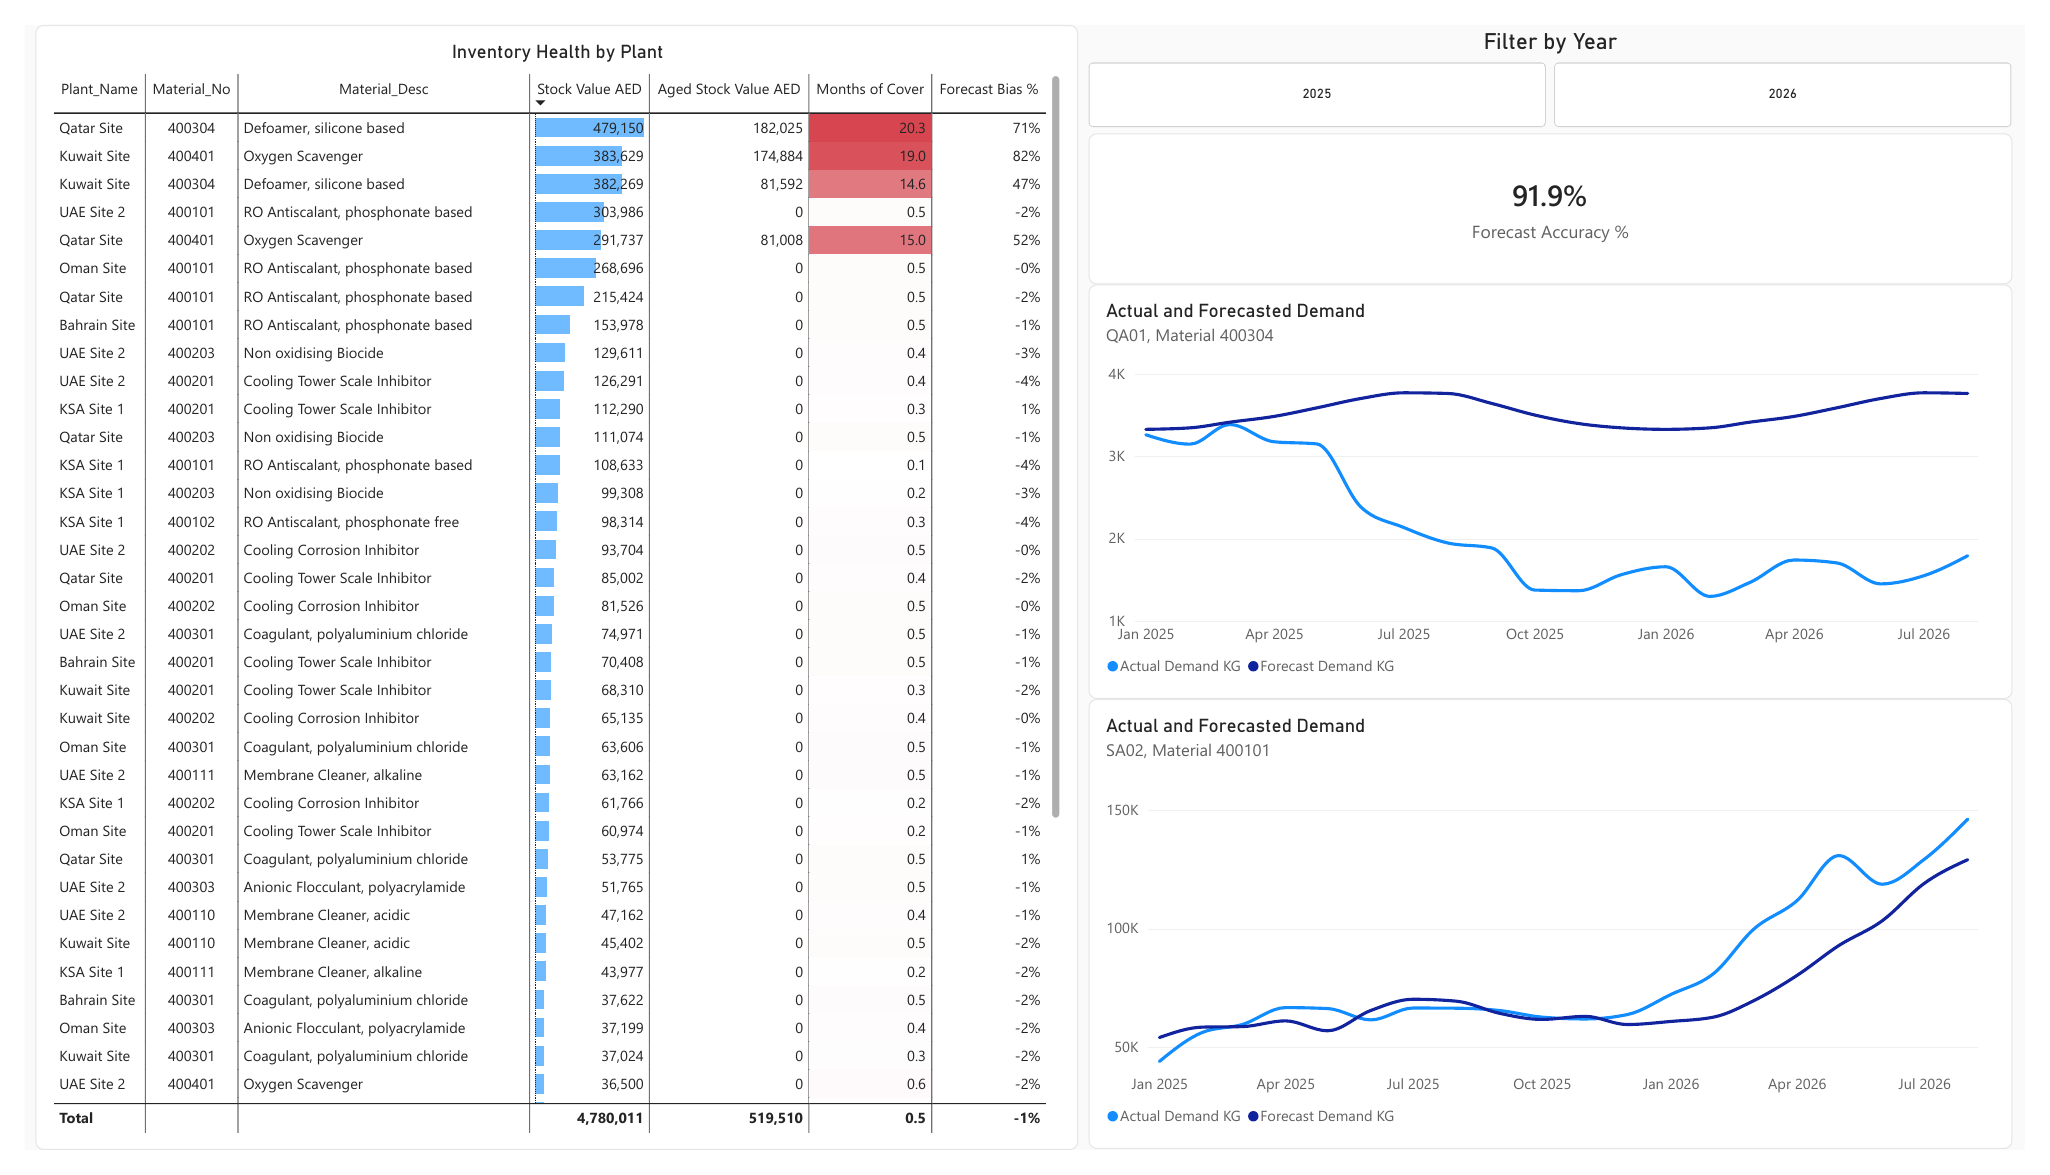

Layout of this report page (visuals, bound fields, positions):
{"tool":"powerbi","page":{"name":"Inventory & Forecast","canvas":[1920,1080],"ordinal":2},"visuals":[{"type":"tableEx","title":"Inventory Health by Plant","fields":{"Values":["Dim_Plant.Plant_Name","Dim_Material.Material_No","Dim_Material.Material_Desc","_Measures.Stock Value AED","_Measures.Aged Stock Value AED","_Measures.Months of Cover","_Measures.Forecast Bias %"]},"box":[9.9,0,1001.4,1080.2],"z":0},{"type":"lineChart","title":"Actual and Forecasted Demand","fields":{"Category":["Dim_Date.Year_Month.Variation.Date Hierarchy.Year","Dim_Date.Year_Month.Variation.Date Hierarchy.Month"],"Y":["_Measures.Actual Demand KG","_Measures.Forecast Demand KG"]},"box":[1021.1,249.4,887.1,397.2],"z":1000},{"type":"lineChart","title":"Actual and Forecasted Demand","fields":{"Category":["Dim_Date.Year_Month.Variation.Date Hierarchy.Year","Dim_Date.Year_Month.Variation.Date Hierarchy.Month"],"Y":["_Measures.Actual Demand KG","_Measures.Forecast Demand KG"]},"box":[1021.1,646.6,887.1,432.7],"z":2000},{"type":"card","fields":{"Values":["_Measures.Forecast Accuracy %"]},"box":[1021.1,104.5,887.1,144.9],"z":3000},{"type":"advancedSlicerVisual","title":"Filter by Year","fields":{"Values":["Dim_Date.Year"]},"box":[1021.1,0,887.1,97.6],"z":4000}]}

Visuals, with their boxes in screenshot pixels (x1, y1, x2, y2), scaled from the page's 1920x1080 canvas onto the 2050x1175 screenshot:
"Inventory Health by Plant" tableEx: bbox=(11, 0, 1080, 1174)
"Actual and Forecasted Demand" lineChart: bbox=(1090, 271, 2037, 703)
"Actual and Forecasted Demand" lineChart: bbox=(1090, 703, 2037, 1174)
card - _Measures.Forecast Accuracy %: bbox=(1090, 114, 2037, 271)
"Filter by Year" advancedSlicerVisual: bbox=(1090, 0, 2037, 106)
